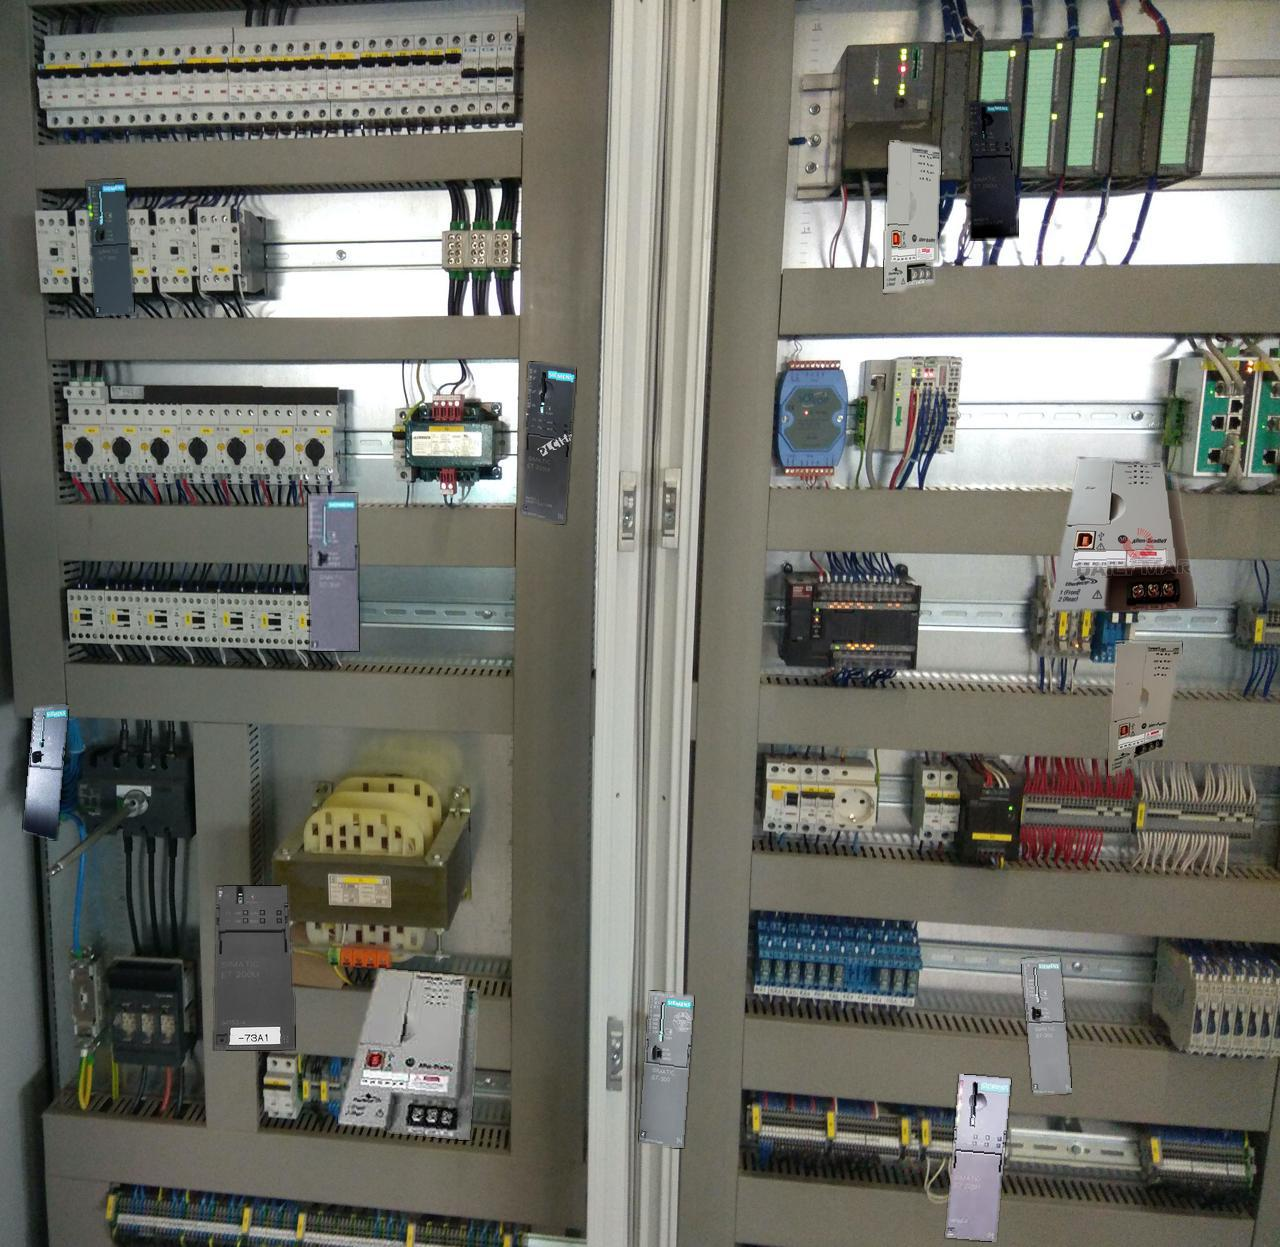AllenBradley: (338, 968, 477, 1140), (1050, 458, 1195, 611), (1109, 641, 1181, 775), (883, 139, 939, 291)
Siemens: (639, 991, 693, 1148), (309, 493, 358, 650), (1021, 957, 1071, 1093), (86, 179, 134, 315), (23, 704, 69, 839)
